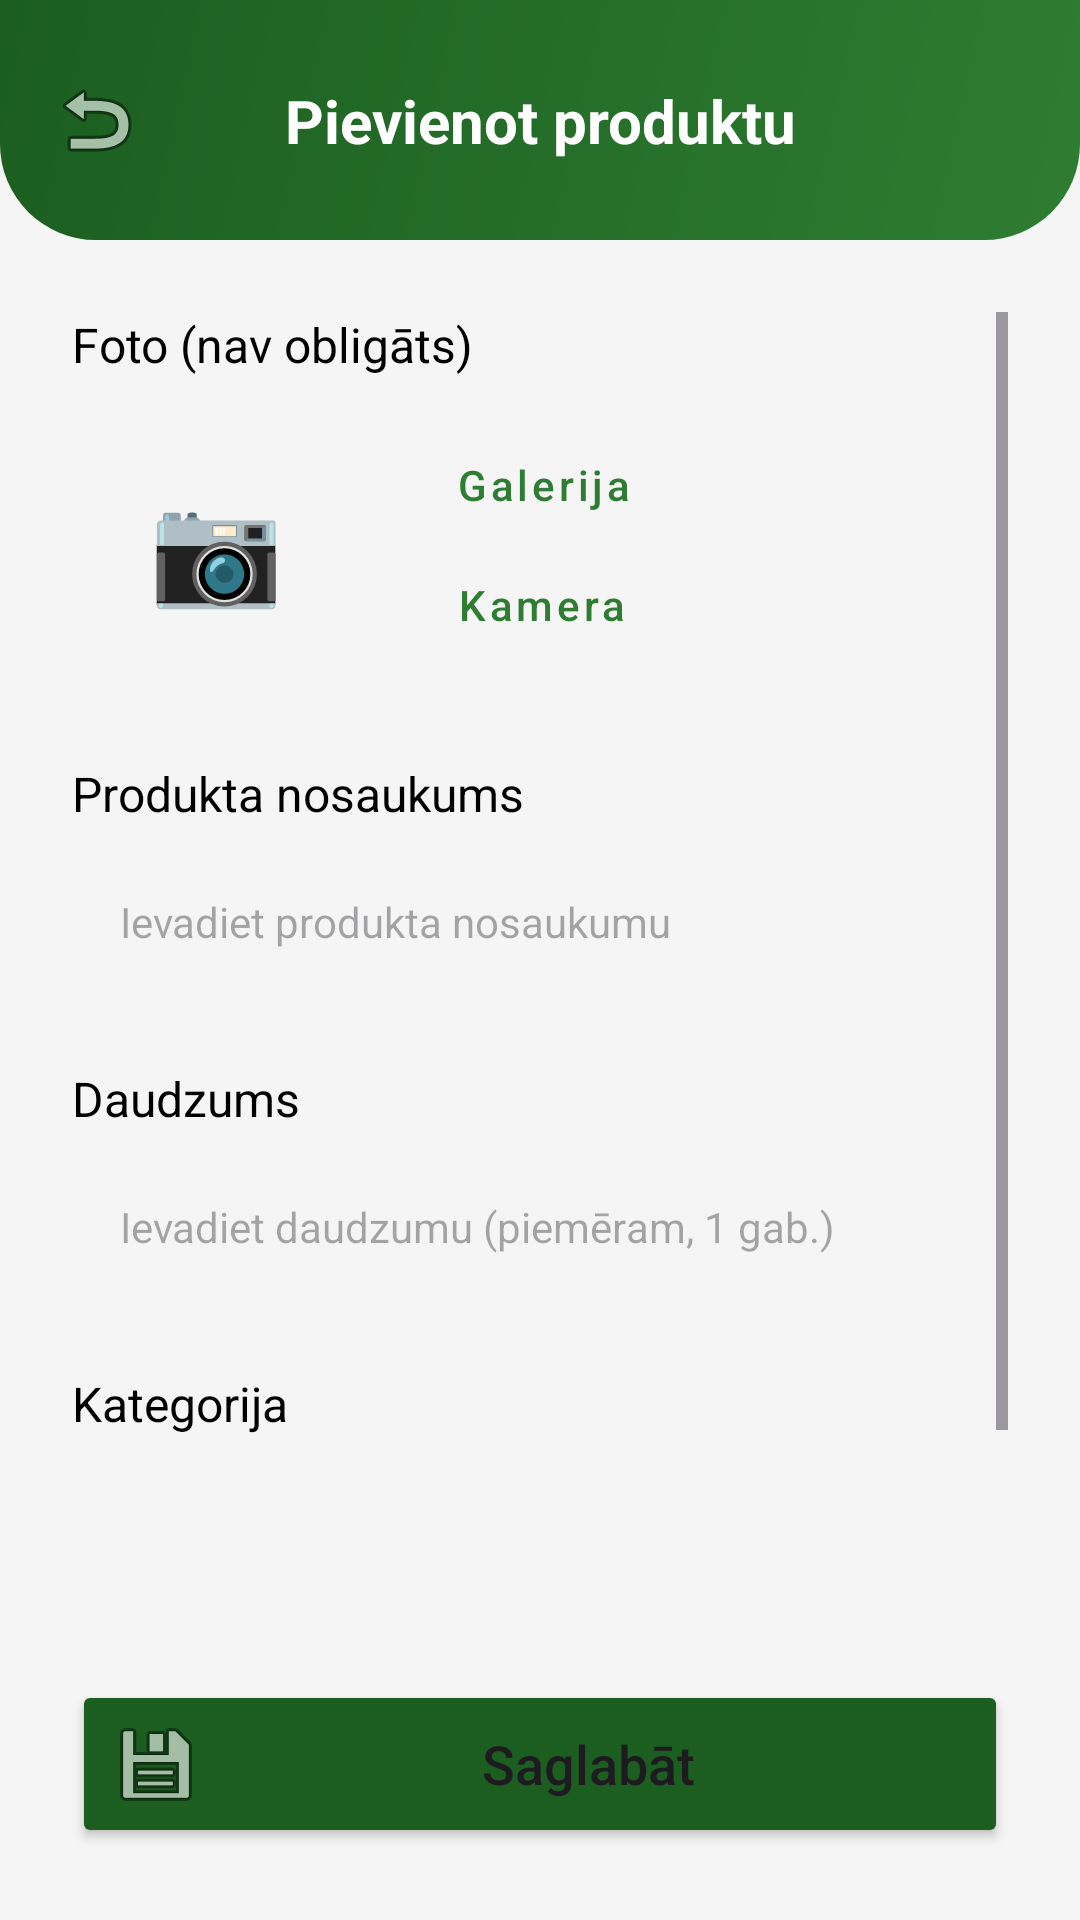

Icons on this 1080px x 1920px Android screen, each with its box as rect(x1, y1, x2, y2):
Atpakaļ: rect(63, 90, 131, 152)
